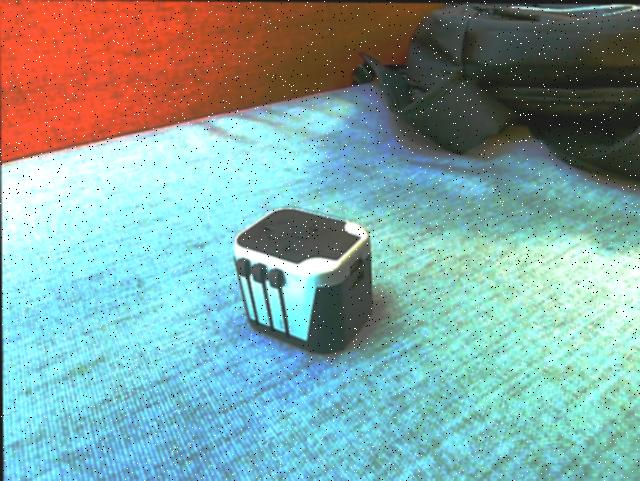adapter: (230, 206, 373, 354)
